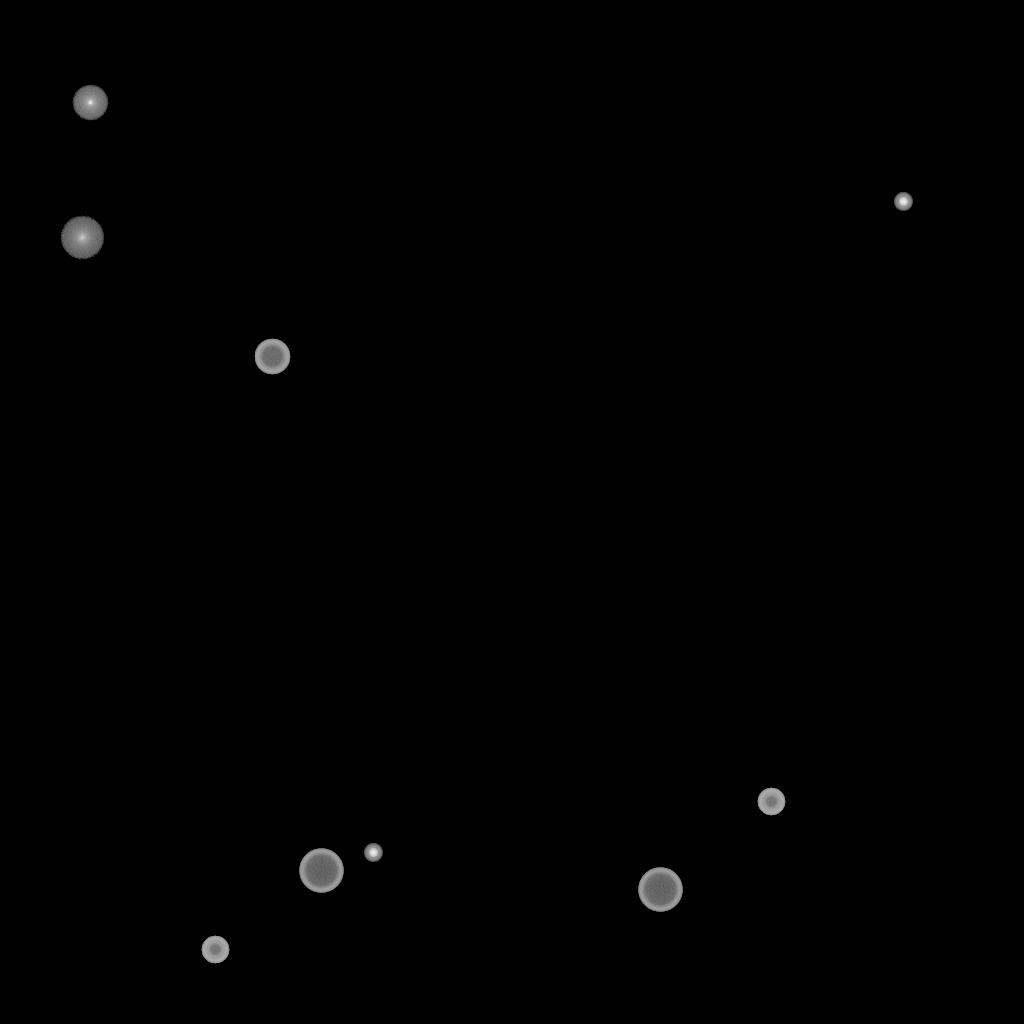depth:-20: (364, 844, 382, 862), (894, 193, 912, 211)
depth:-50: (201, 936, 229, 964), (757, 788, 785, 816)
depth:-60: (254, 339, 290, 375)
depth:-70: (638, 868, 682, 912), (299, 849, 343, 893)
depth:0: (72, 85, 108, 121)
depth:10: (60, 216, 104, 260)
